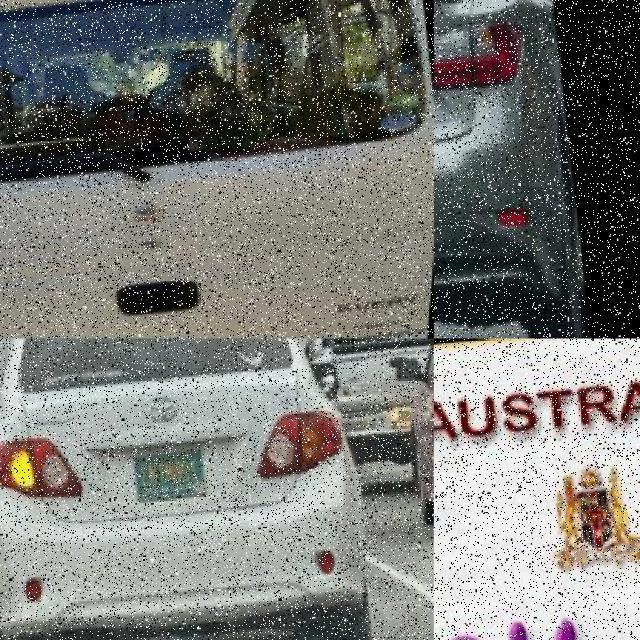LicensePlate: (434, 517, 640, 640), (138, 443, 211, 496), (434, 46, 476, 131)
